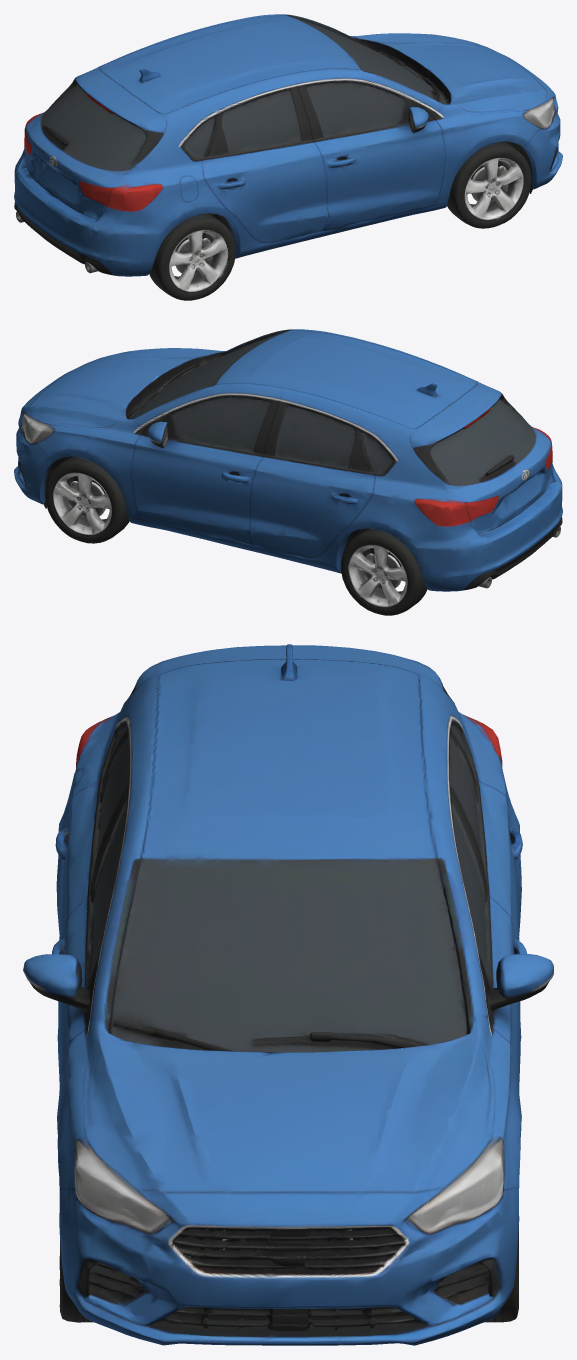
The model's file is raw.glb.
The picture shows the model from 3 angles, top to bottom: view 1: azimuth 30°, elevation 25°; view 2: azimuth 150°, elevation 25°; view 3: azimuth 270°, elevation 25°; orthographic projection. The views are drawn at different scales.
Visible parts, largest first — view 1: tripo_node_7f3ebfde-6ad0-4142-a028-8af780ccb5b4; view 2: tripo_node_7f3ebfde-6ad0-4142-a028-8af780ccb5b4; view 3: tripo_node_7f3ebfde-6ad0-4142-a028-8af780ccb5b4.
Boxes of the visible parts, x1,y1,x2,y2 form: tripo_node_7f3ebfde-6ad0-4142-a028-8af780ccb5b4: [14, 14, 562, 300]; tripo_node_7f3ebfde-6ad0-4142-a028-8af780ccb5b4: [14, 329, 562, 615]; tripo_node_7f3ebfde-6ad0-4142-a028-8af780ccb5b4: [23, 644, 553, 1345].
Size of the model in its own units: 1 by 0.3697 by 0.4686.
Materials: 1 (1 with a texture image).
